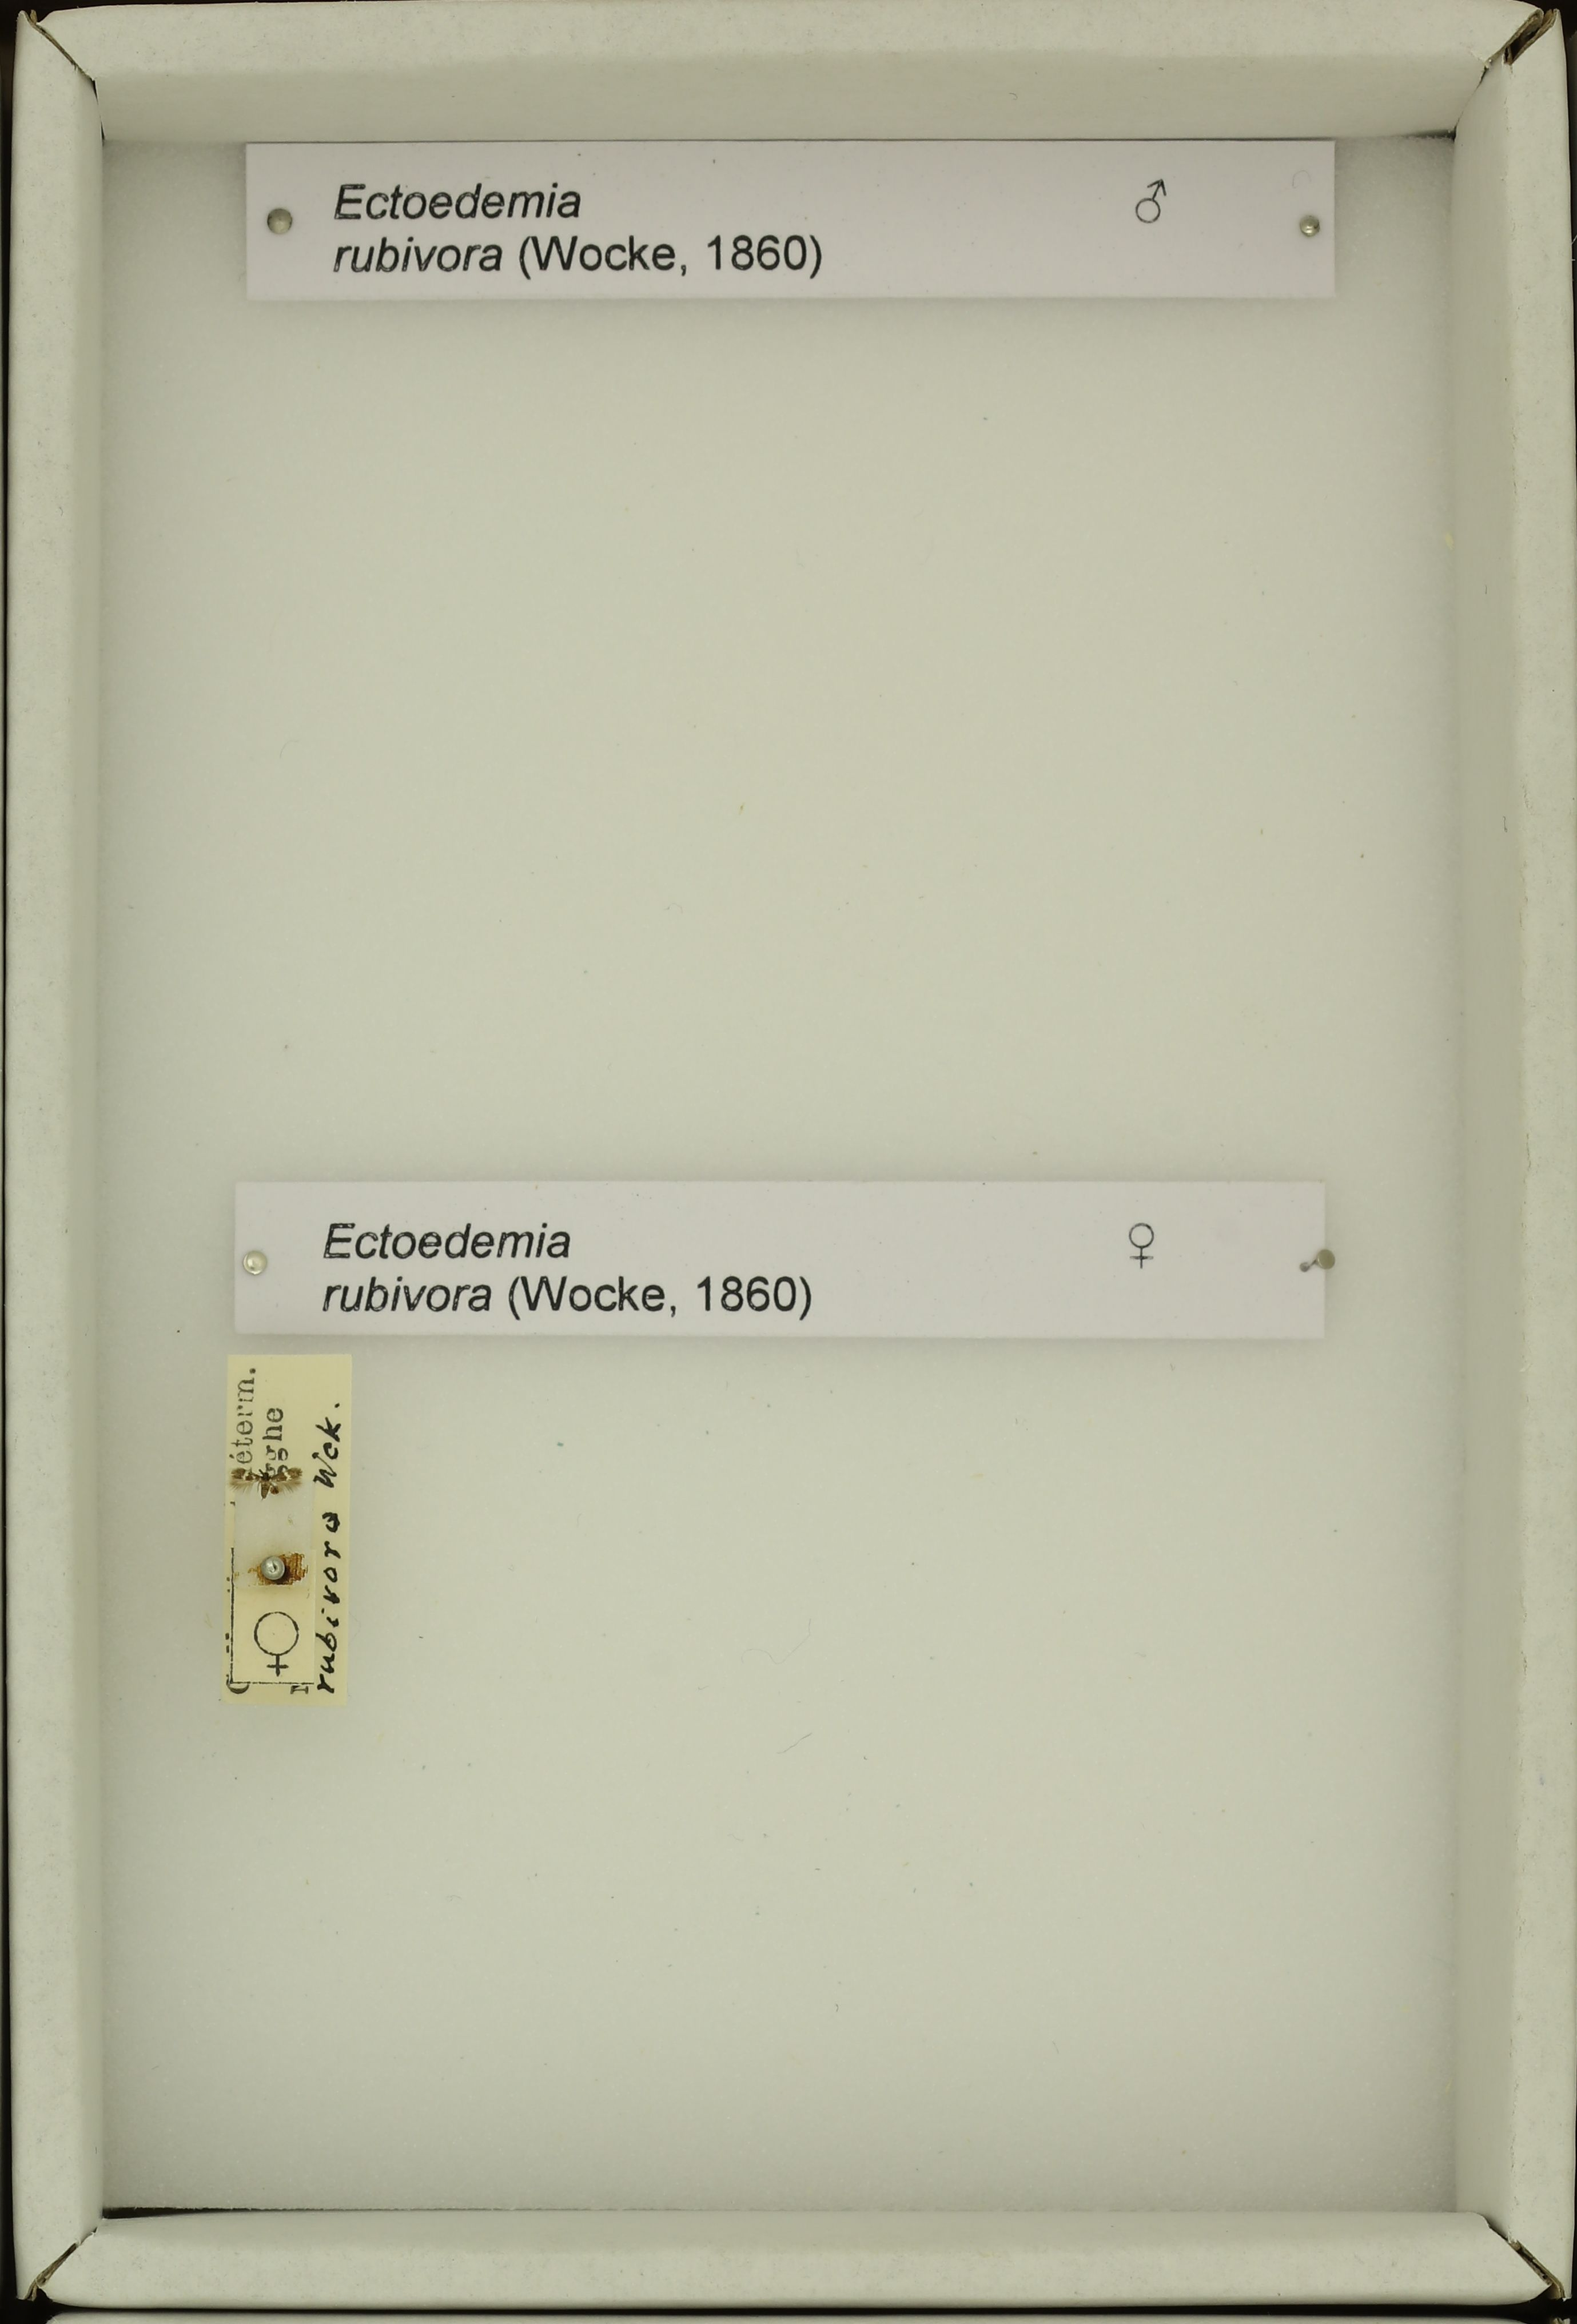insect: (229, 1460, 304, 1504)
